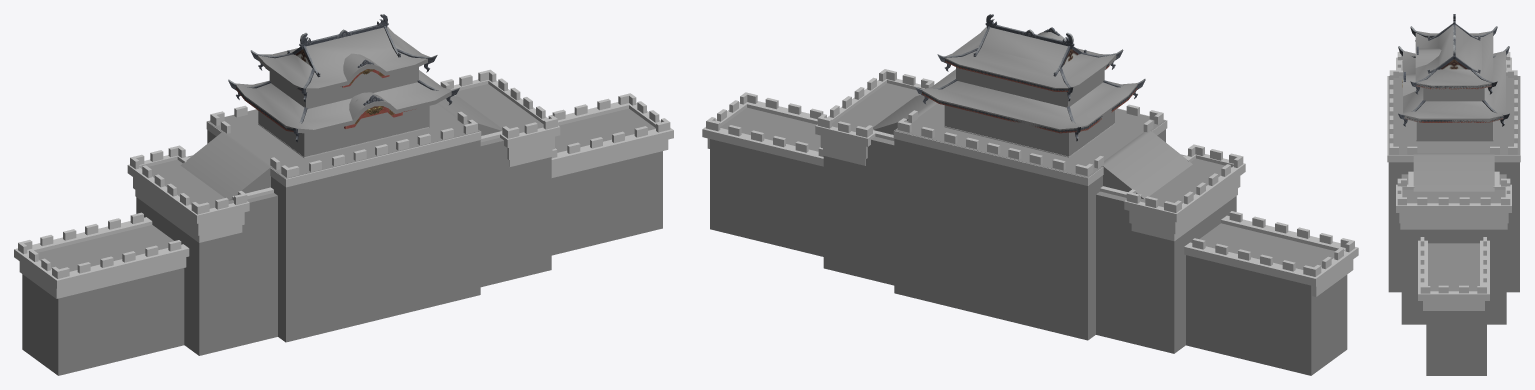
Rendered from Scene_Build_LiangShan_ChengLou_1.FBX.
3 views of the same model, side by side, from view 1: azimuth 30°, elevation 25°; view 2: azimuth 150°, elevation 25°; view 3: azimuth 270°, elevation 25° (orthographic). The views are drawn at different scales.
Parts seen in each view (by area): view 1: Scene_Build_LiangShan_ChengLou_1_Xzm, Scene_Build_LiangShan_ChengLou_1c, Scene_Build_LiangShan_ChengLou_1a; view 2: Scene_Build_LiangShan_ChengLou_1_Xzm, Scene_Build_LiangShan_ChengLou_1c, Scene_Build_LiangShan_ChengLou_1a; view 3: Scene_Build_LiangShan_ChengLou_1_Xzm, Scene_Build_LiangShan_ChengLou_1c, Scene_Build_LiangShan_ChengLou_1a.
Boxes of the visible parts, <box> form: Scene_Build_LiangShan_ChengLou_1_Xzm: <box>22,26,662,375</box>; Scene_Build_LiangShan_ChengLou_1c: <box>14,69,673,298</box>; Scene_Build_LiangShan_ChengLou_1a: <box>228,14,459,142</box>; Scene_Build_LiangShan_ChengLou_1_Xzm: <box>710,26,1347,375</box>; Scene_Build_LiangShan_ChengLou_1c: <box>702,69,1358,296</box>; Scene_Build_LiangShan_ChengLou_1a: <box>915,14,1145,141</box>; Scene_Build_LiangShan_ChengLou_1_Xzm: <box>1388,25,1519,375</box>; Scene_Build_LiangShan_ChengLou_1c: <box>1387,52,1520,310</box>; Scene_Build_LiangShan_ChengLou_1a: <box>1398,14,1509,126</box>.
Bounding box in the file's own units: 9105 × 3760 × 2034.
